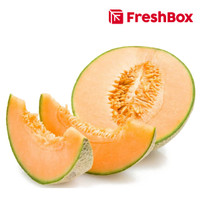Melon: (43, 83, 167, 153), (3, 103, 93, 186)
